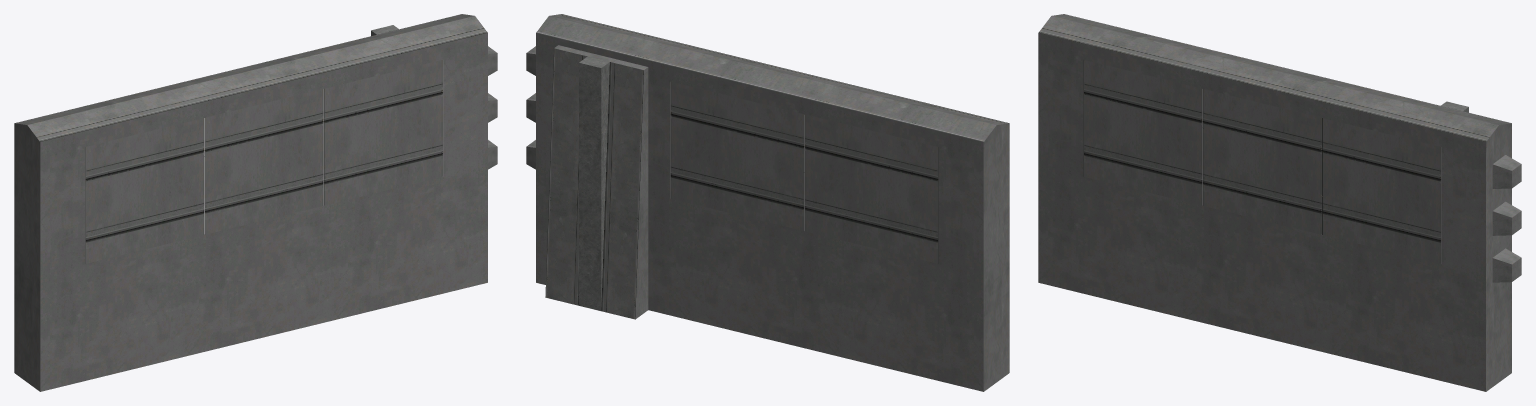
The model's file is mun_all_military_base_gate_impl_s01_l1.fbx.
3 renders of one model, left to right at view 1: azimuth 30°, elevation 25°; view 2: azimuth 150°, elevation 25°; view 3: azimuth 330°, elevation 25°, orthographic.
Visible parts, largest first — view 1: mesh_node; view 2: mesh_node; view 3: mesh_node.
Part boxes in pixels (box(x1,y1,x2,y2)): mesh_node: box(14, 14, 497, 391); mesh_node: box(526, 14, 1009, 391); mesh_node: box(1038, 14, 1521, 391).
Size of the model in its own units: 10.41 by 5.5 by 1.5.
